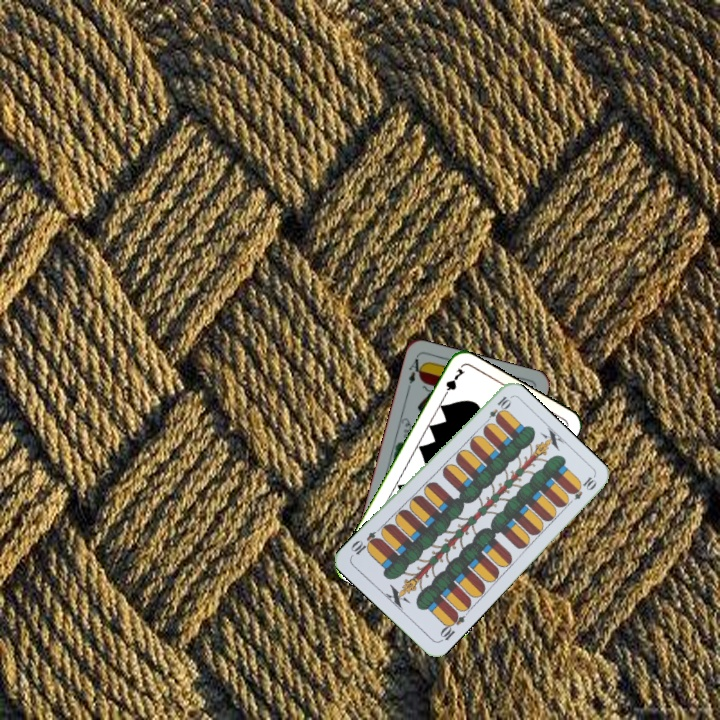E10: (480, 392, 513, 427), (436, 608, 467, 645)
EA: (403, 354, 426, 393)
G7: (439, 364, 467, 401)
